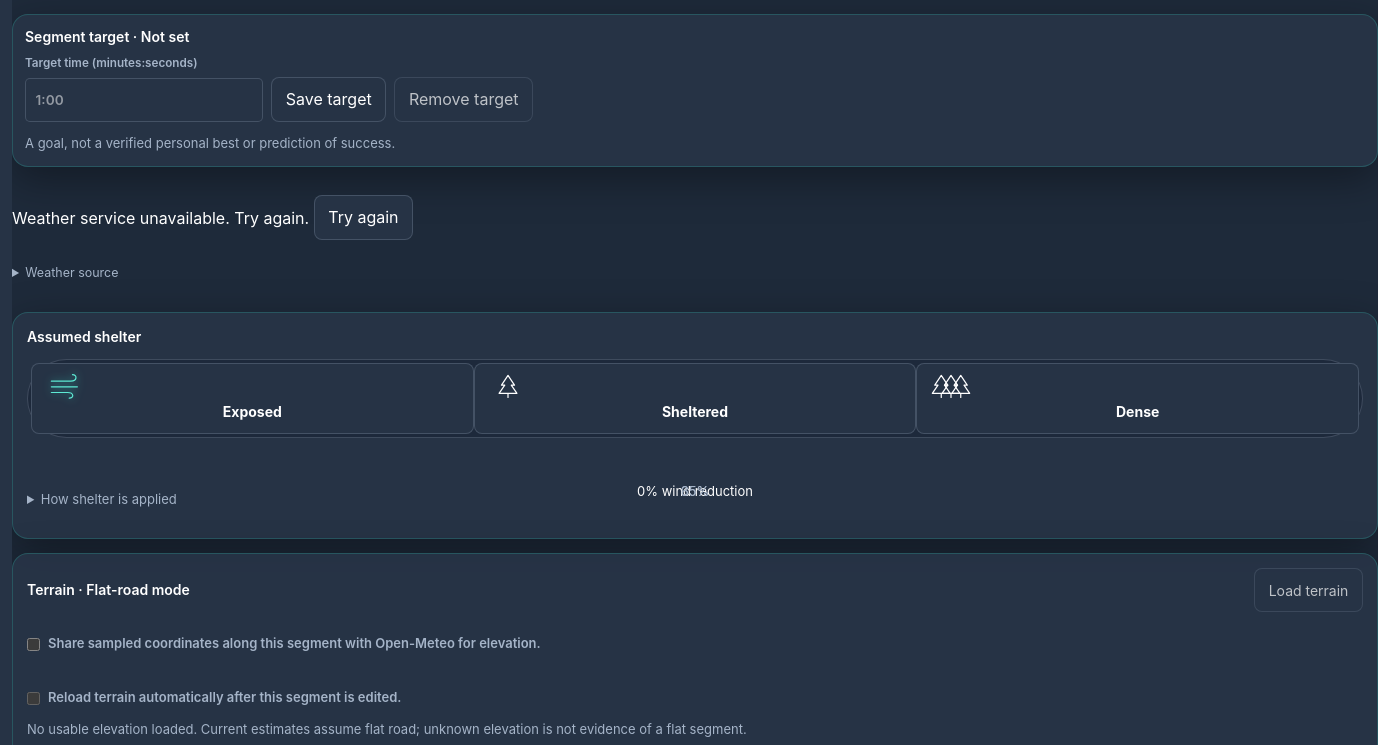
it: recovery: try again after an outage brings the console back
Expected: the message "Weather service unavailable. Try again. Try again" is shown, [12,195,413,240]
Click the button "Try again". click: (363, 217)
box: [314,195,413,240]
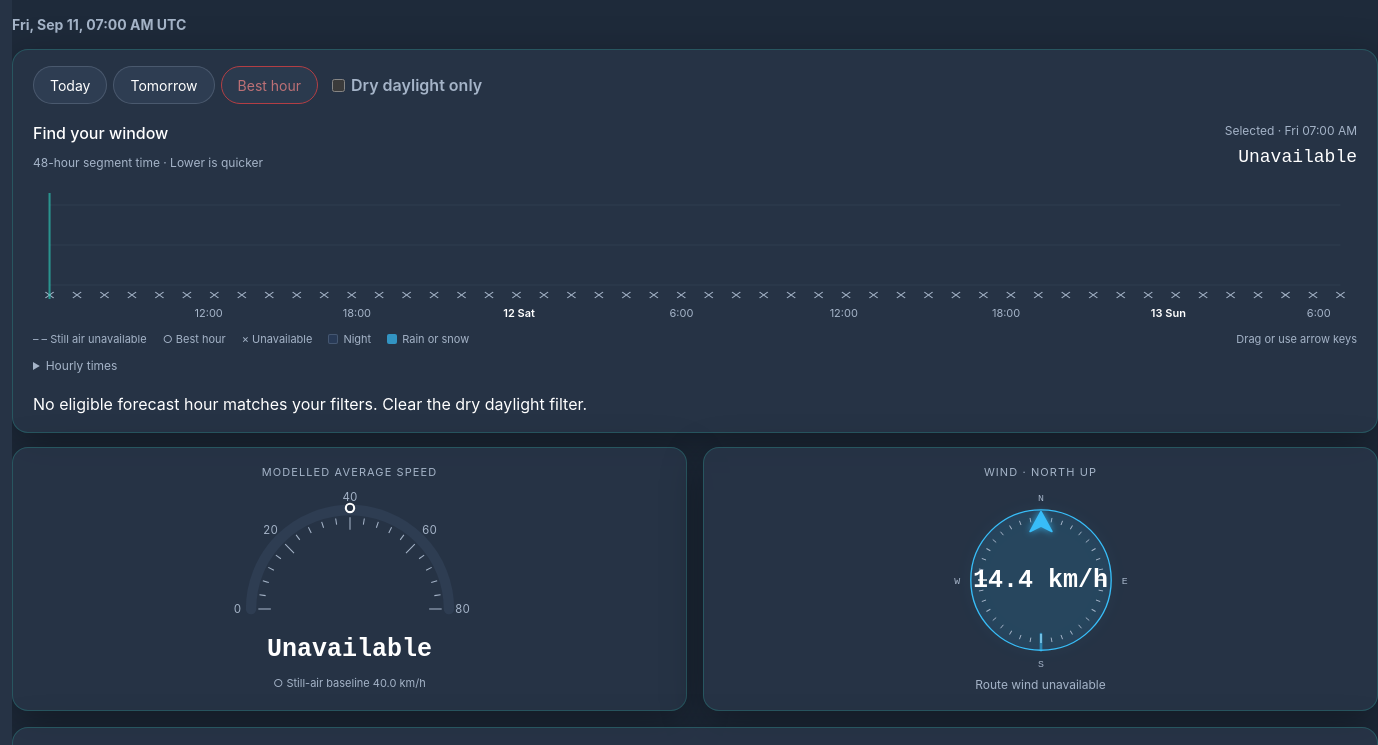
Expected: the element named "Forecast navigation" is shown, [33,66,482,104]
